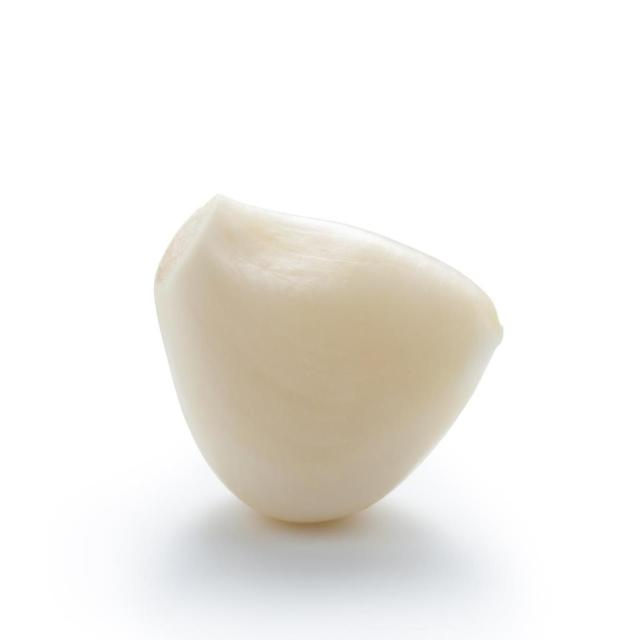garlic: (148, 189, 506, 528)
